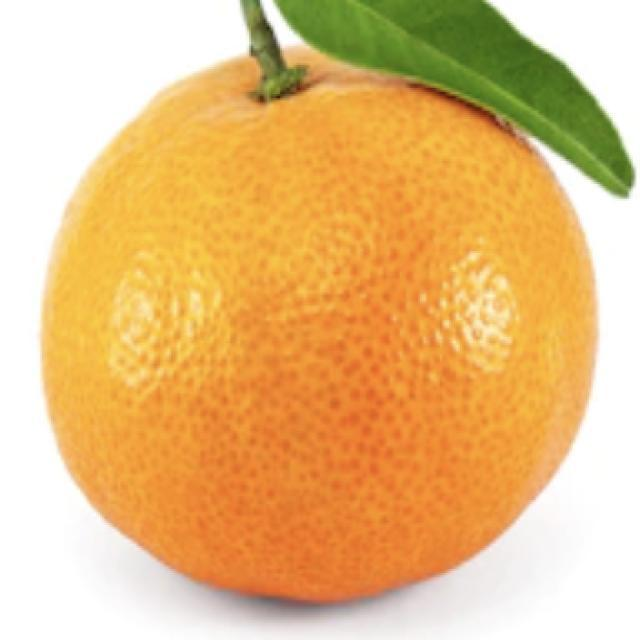Orange: (39, 42, 600, 605)
